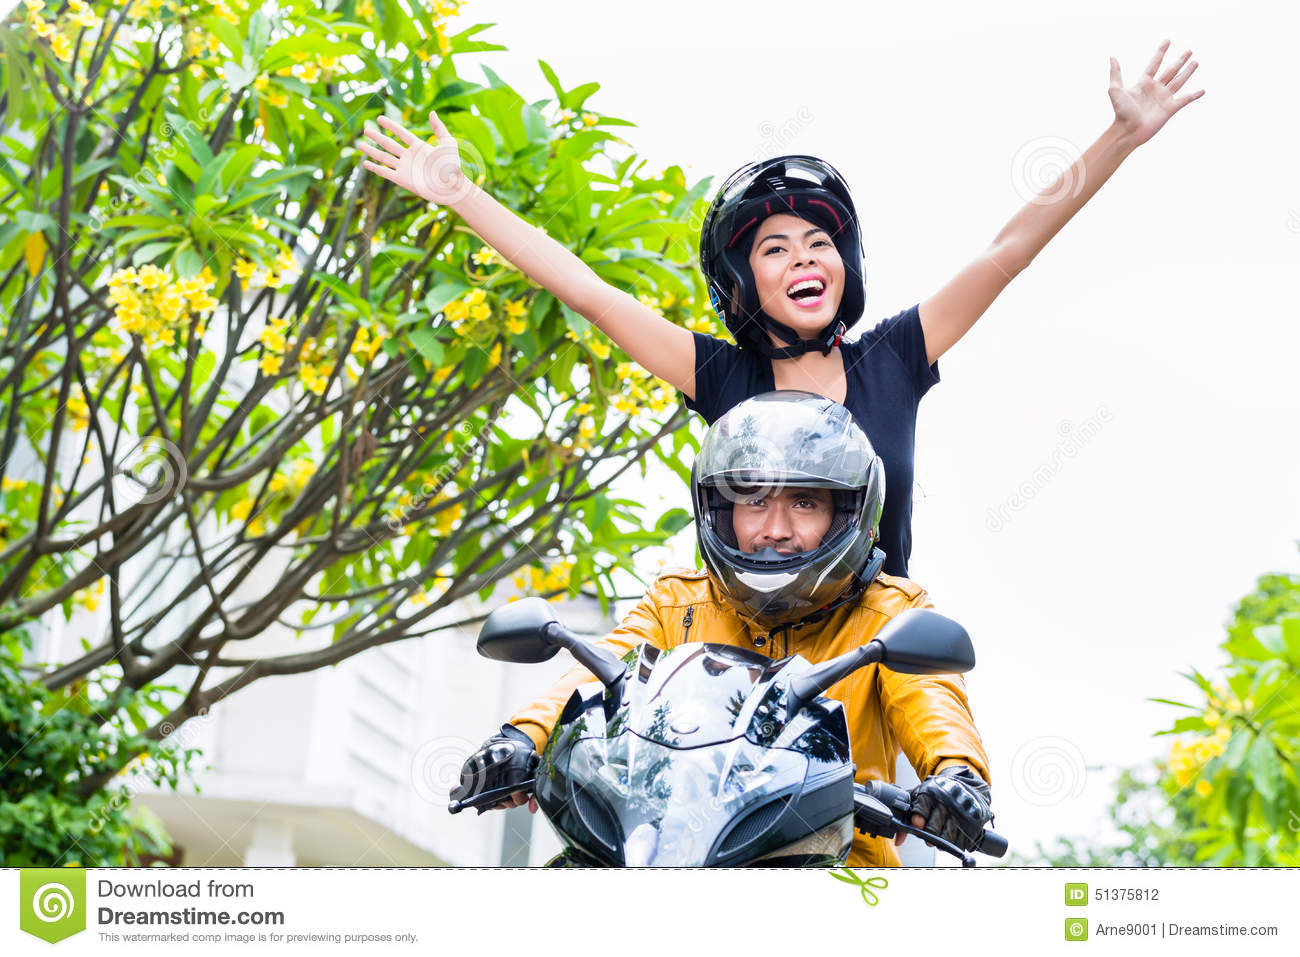helmet: (696, 399, 895, 607), (696, 161, 893, 330)
